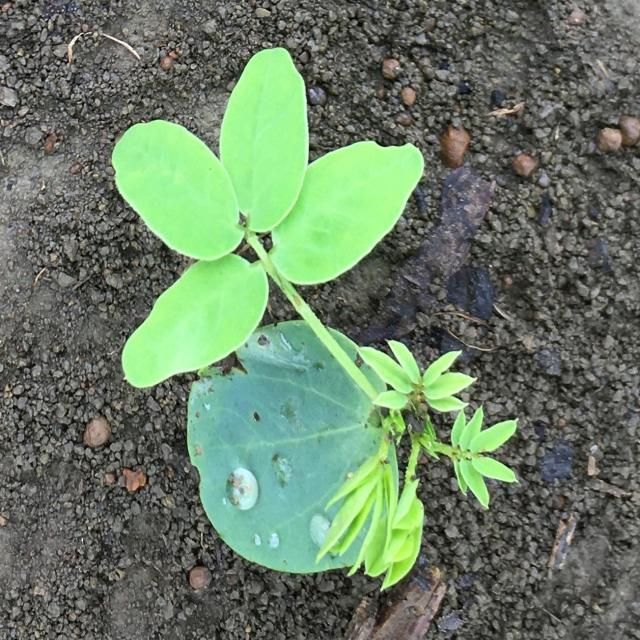Sicklepod: (112, 47, 518, 591)
